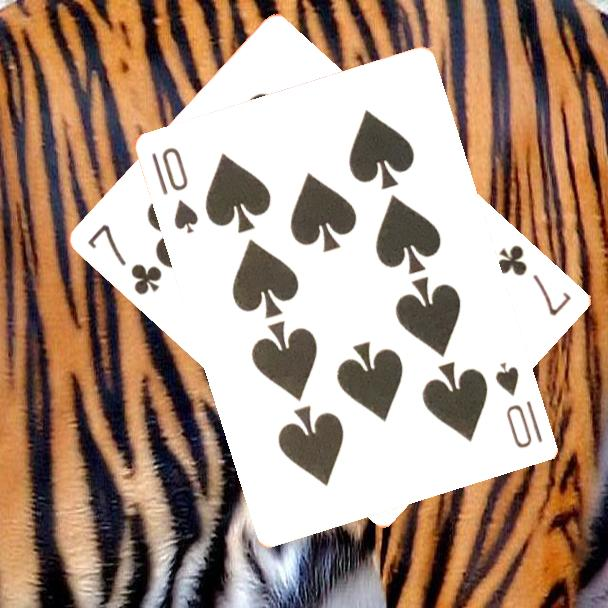c07: (493, 241, 575, 320), (84, 220, 166, 299)
s10: (147, 143, 201, 237), (491, 358, 545, 451)
